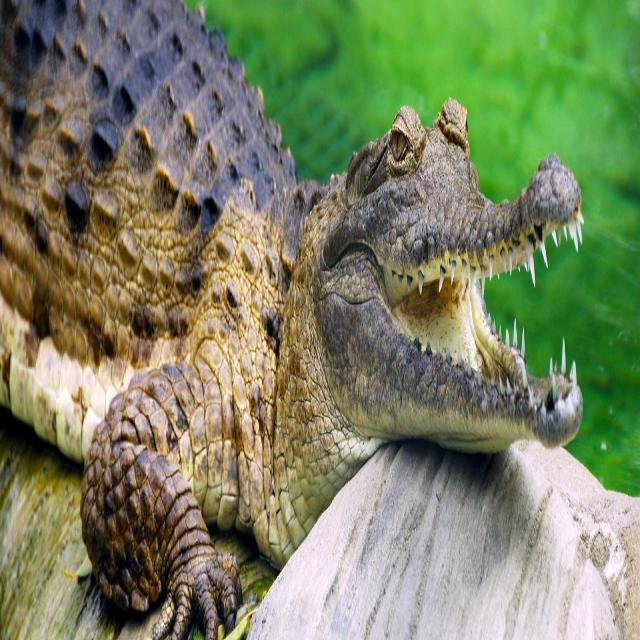crocodile: (0, 0, 584, 629)
